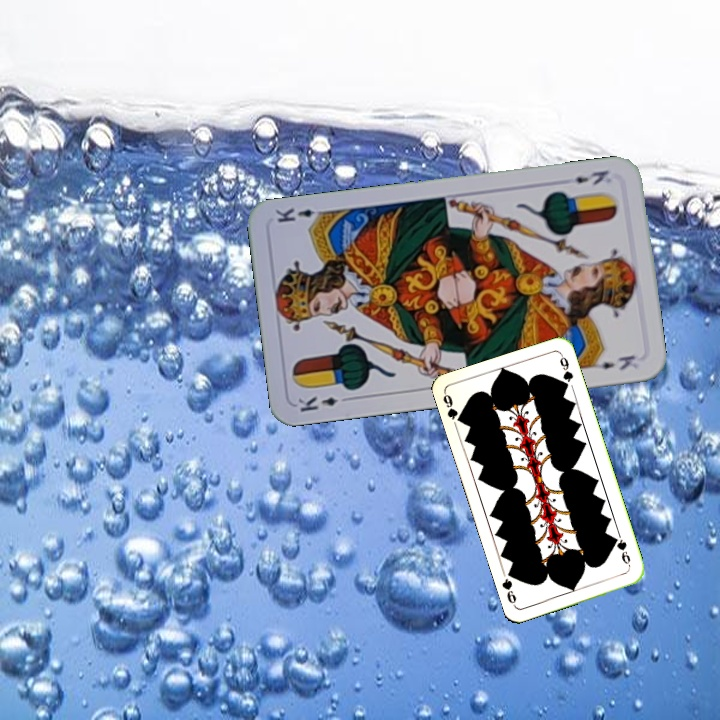EK: (294, 392, 353, 415), (570, 166, 611, 188)
G9: (439, 389, 466, 426), (610, 533, 633, 570)
